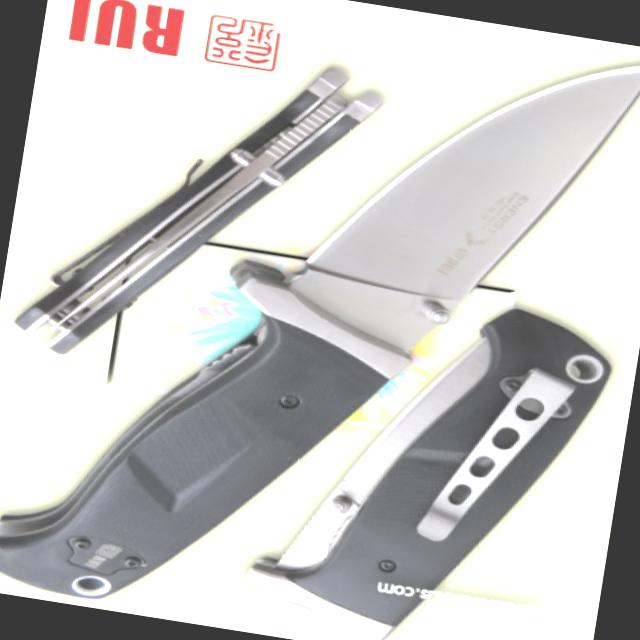knife: (273, 4, 639, 384)
